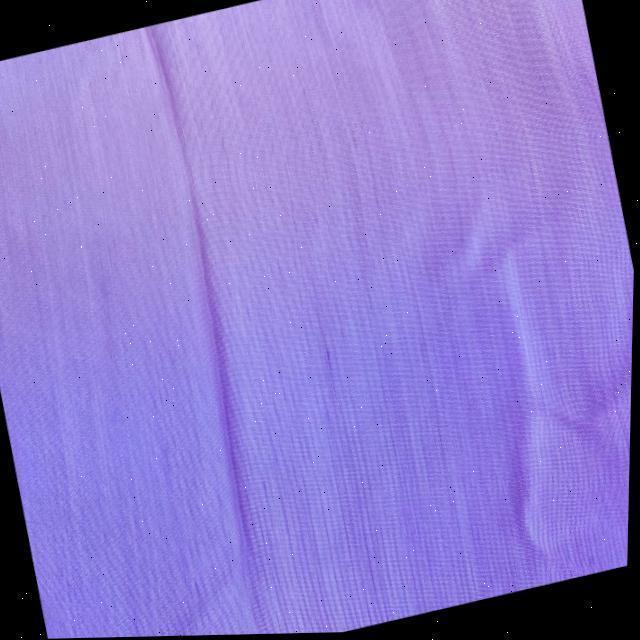broken_yarn: (140, 30, 248, 549)
